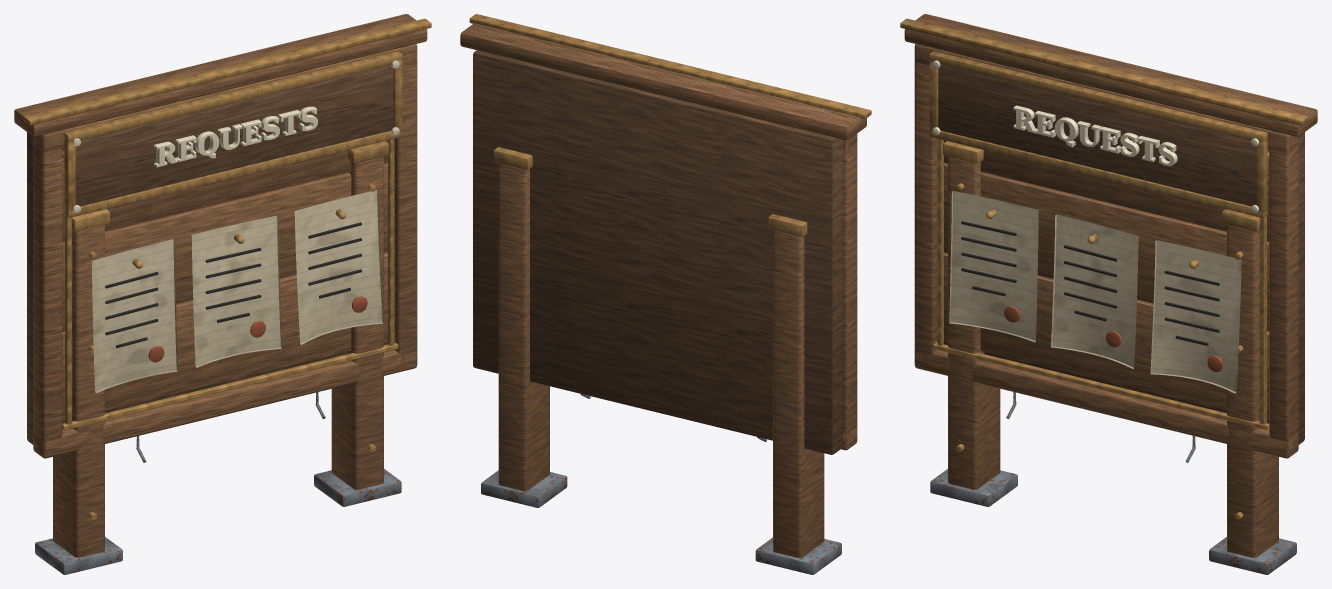
Rendered from request_board.gltf.
3 renders of one model, left to right at view 1: azimuth 30°, elevation 25°; view 2: azimuth 150°, elevation 25°; view 3: azimuth 330°, elevation 25°, orthographic.
Visible parts, largest first — view 1: BoardTimber, NoticePaper, BoardWalnut, BoardBronze, BoardIron, HeaderLettering, NoticeInk, WaxSeal; view 2: BoardWalnut, BoardTimber, BoardBronze, BoardIron; view 3: BoardTimber, NoticePaper, BoardWalnut, BoardBronze, BoardIron, HeaderLettering, NoticeInk, WaxSeal.
Part boxes in pixels (left/top/right/bottom): BoardTimber: left=14, top=14, right=427, bottom=557; NoticePaper: left=92, top=190, right=383, bottom=392; BoardWalnut: left=27, top=64, right=393, bottom=444; BoardBronze: left=23, top=18, right=431, bottom=520; BoardIron: left=35, top=392, right=401, bottom=574; HeaderLettering: left=73, top=60, right=399, bottom=213; NoticeInk: left=105, top=222, right=361, bottom=347; WaxSeal: left=148, top=296, right=367, bottom=362; BoardWalnut: left=473, top=50, right=842, bottom=454; BoardTimber: left=460, top=23, right=866, bottom=557; BoardBronze: left=469, top=14, right=871, bottom=236; BoardIron: left=481, top=394, right=841, bottom=574; BoardTimber: left=904, top=14, right=1317, bottom=557; NoticePaper: left=949, top=191, right=1241, bottom=393; BoardWalnut: left=938, top=64, right=1304, bottom=444; BoardBronze: left=900, top=18, right=1308, bottom=520; BoardIron: left=930, top=392, right=1296, bottom=574; HeaderLettering: left=932, top=60, right=1258, bottom=213; NoticeInk: left=961, top=221, right=1219, bottom=345; WaxSeal: left=1004, top=306, right=1223, bottom=371.
Size of the model in its own units: 2.02 by 2.21 by 0.3395.
8 materials, 8 textured.
